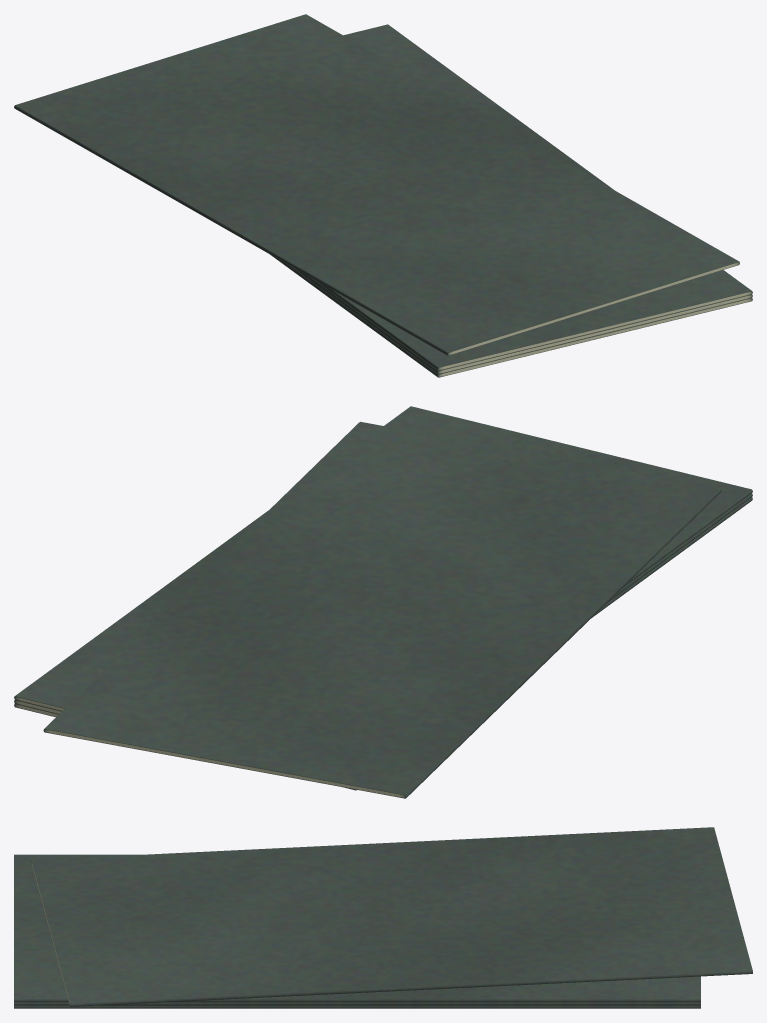
The model's file is SM_PlasterboardPile.fbx.
The picture shows the model from 3 angles, top to bottom: view 1: azimuth 30°, elevation 25°; view 2: azimuth 150°, elevation 25°; view 3: azimuth 270°, elevation 25°; orthographic projection. The views are drawn at different scales.
Visible parts, largest first — view 1: PlasterboardPile; view 2: PlasterboardPile; view 3: PlasterboardPile.
Boxes of the visible parts, x1,y1,x2,y2 form: PlasterboardPile: (14, 14, 752, 377); PlasterboardPile: (14, 406, 752, 798); PlasterboardPile: (14, 827, 752, 1008).
Size of the model in its own units: 146 by 258 by 5.
1 material, 1 textured.
